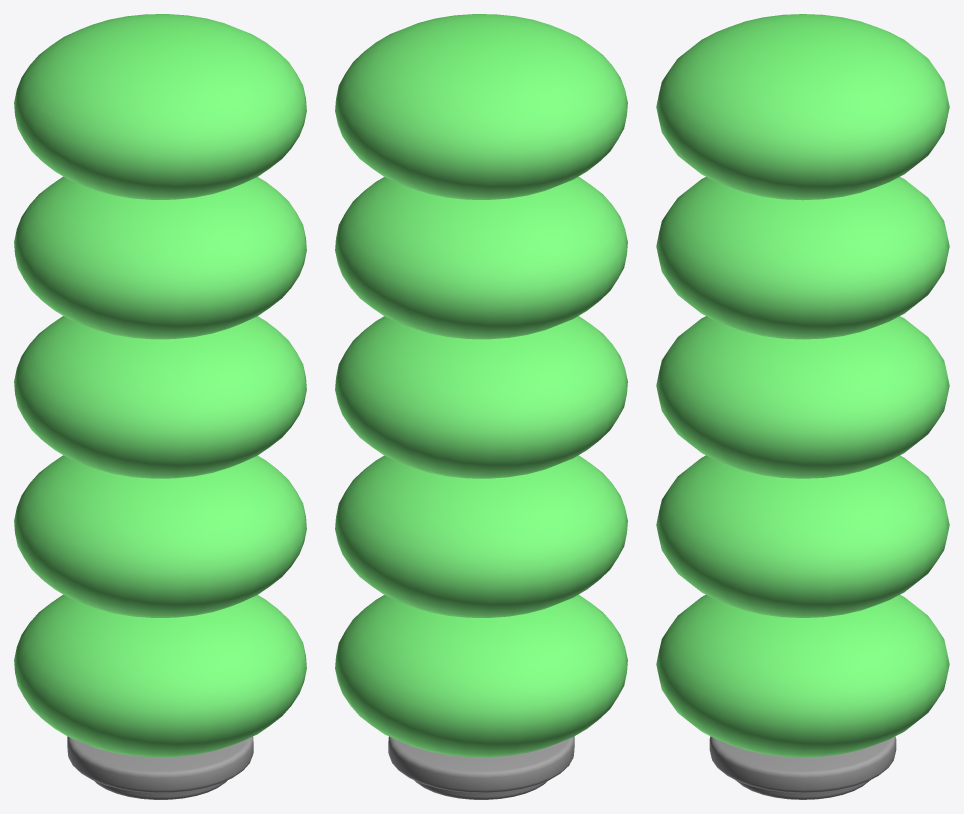
The model's file is trap_trap_3.glb.
3 views of the same model, side by side, from view 1: azimuth 30°, elevation 25°; view 2: azimuth 150°, elevation 25°; view 3: azimuth 270°, elevation 25° (orthographic).
Parts seen in each view (by area): view 1: Cylinder.055_visual; view 2: Cylinder.055_visual; view 3: Cylinder.055_visual.
Boxes of the visible parts, x1,y1,x2,y2 form: Cylinder.055_visual: (14, 14, 306, 799); Cylinder.055_visual: (335, 14, 627, 799); Cylinder.055_visual: (656, 14, 949, 799).
Size of what is drawn, in the model's own units: 0.7507 by 2.07 by 0.7507.
1 material, 1 textured.
